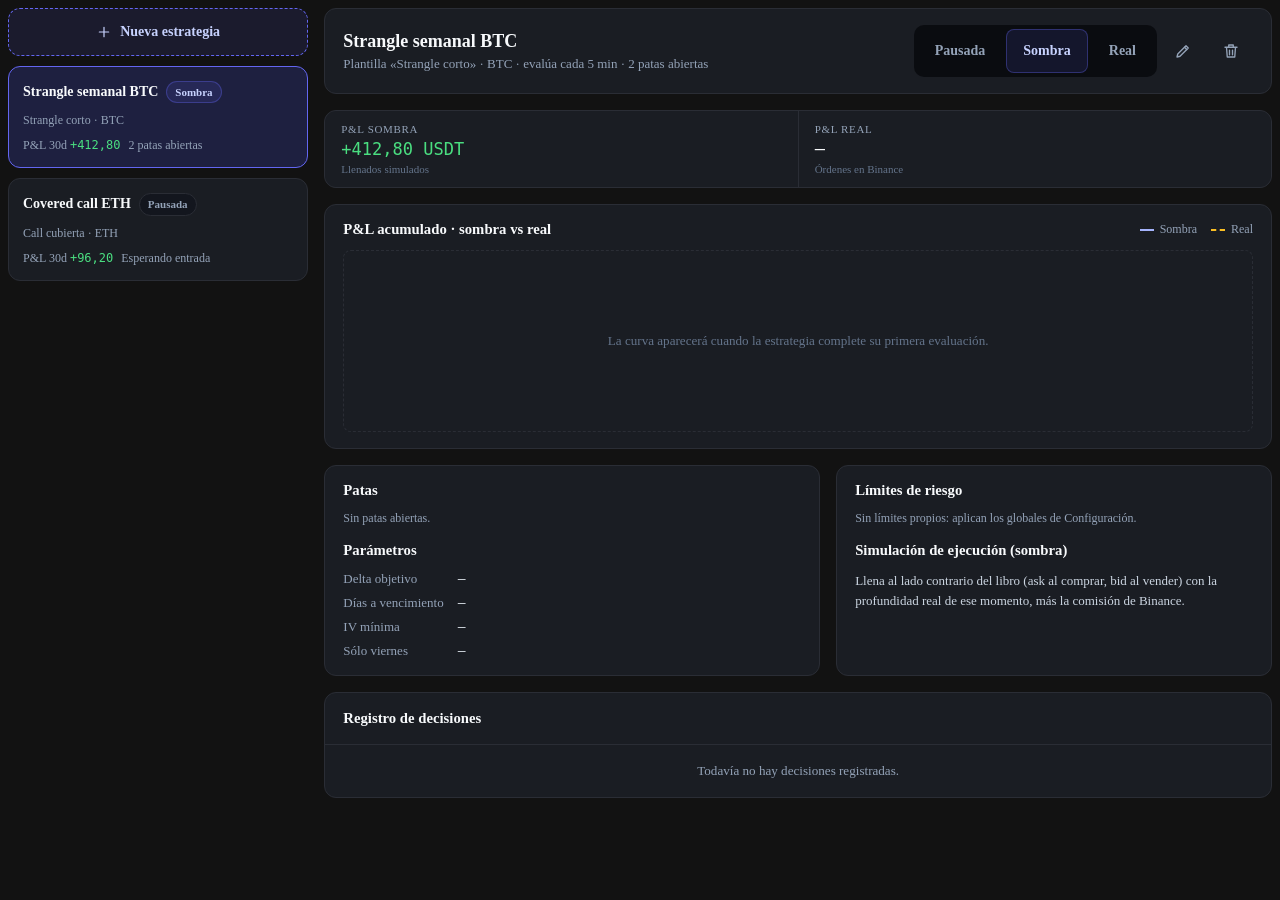
Test: StrategiesTab · escritorio › muestra el error del servidor y enlaza a Configuración si faltan credenciales
The width and height of the screenshot is (1280, 900).
Check: the heading "Strangle semanal BTC" is shown, box x1=343 y1=30 x2=517 y2=50
Click the radio button labelled "Real" at [1122, 51], box x1=1092 y1=29 x2=1153 y2=73
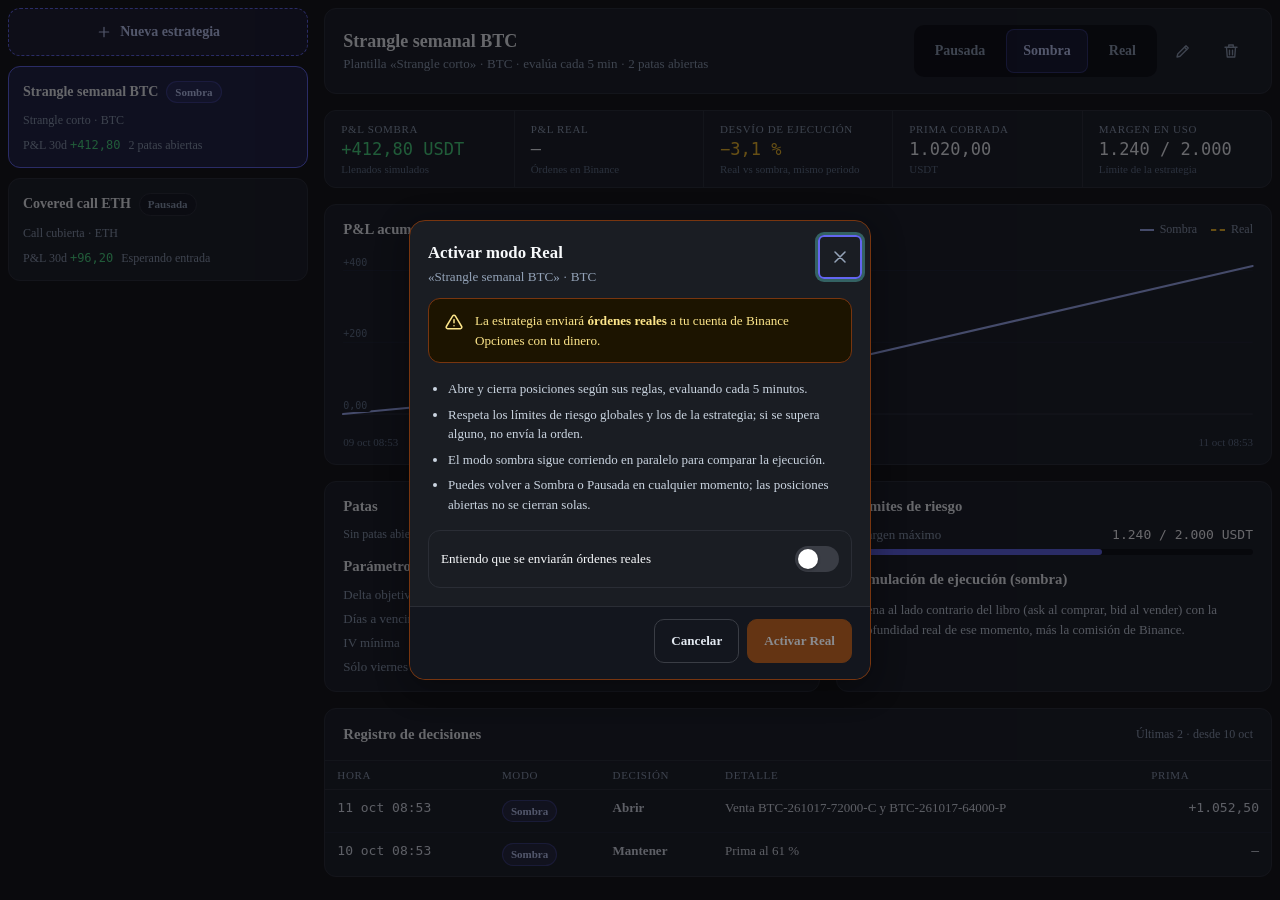
Click the switch at [640, 559], box x1=429 y1=531 x2=851 y2=587
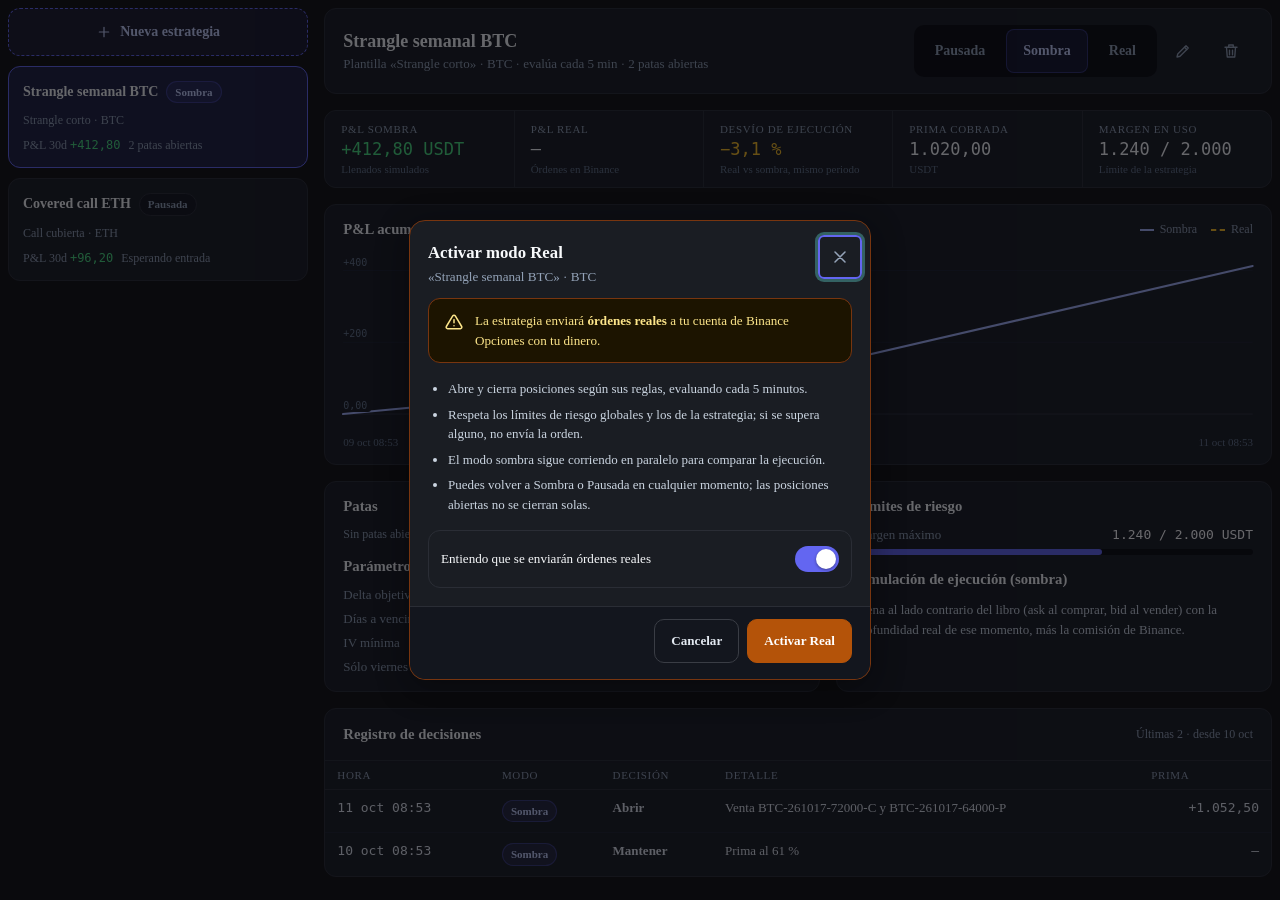
Click the button "Activar Real" at [800, 641], box x1=747 y1=619 x2=852 y2=663
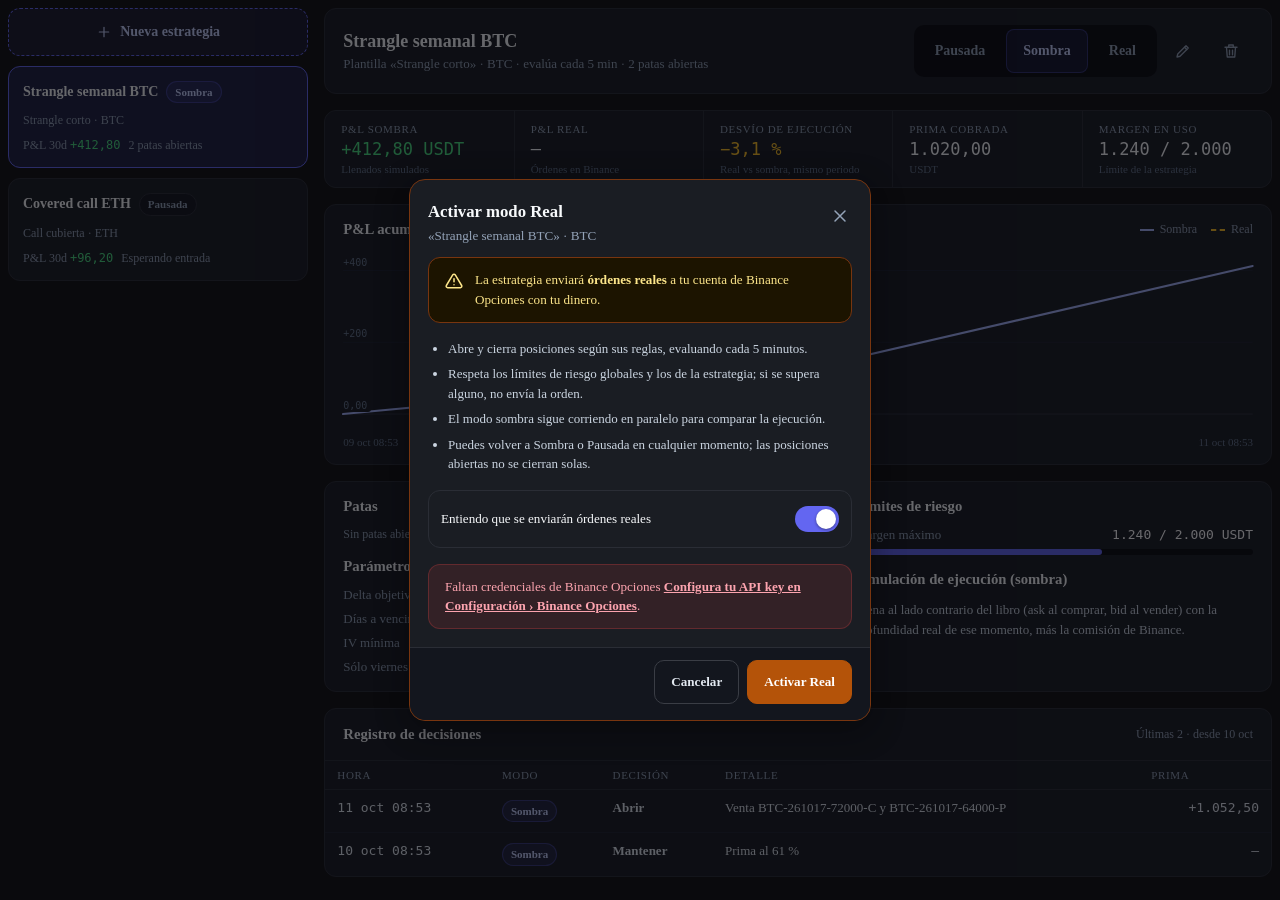
Check: the text "Faltan credenciales de Binance Opciones" is shown, box x1=445 y1=579 x2=660 y2=594
